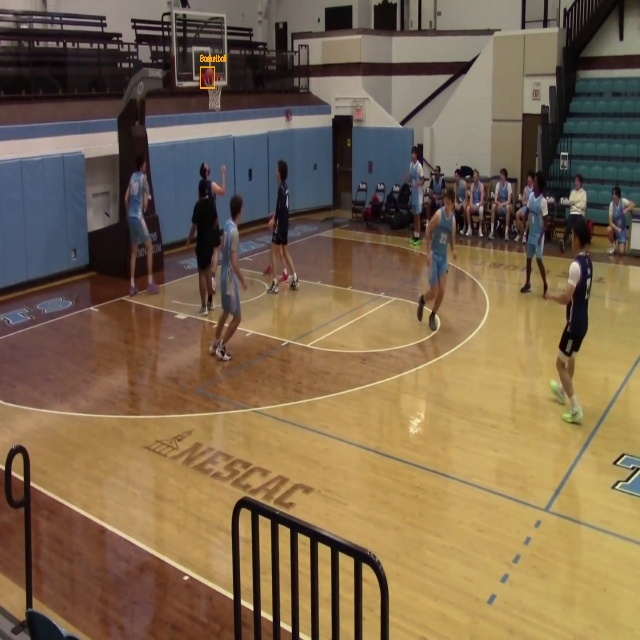Basketball: (200, 67, 215, 88)
